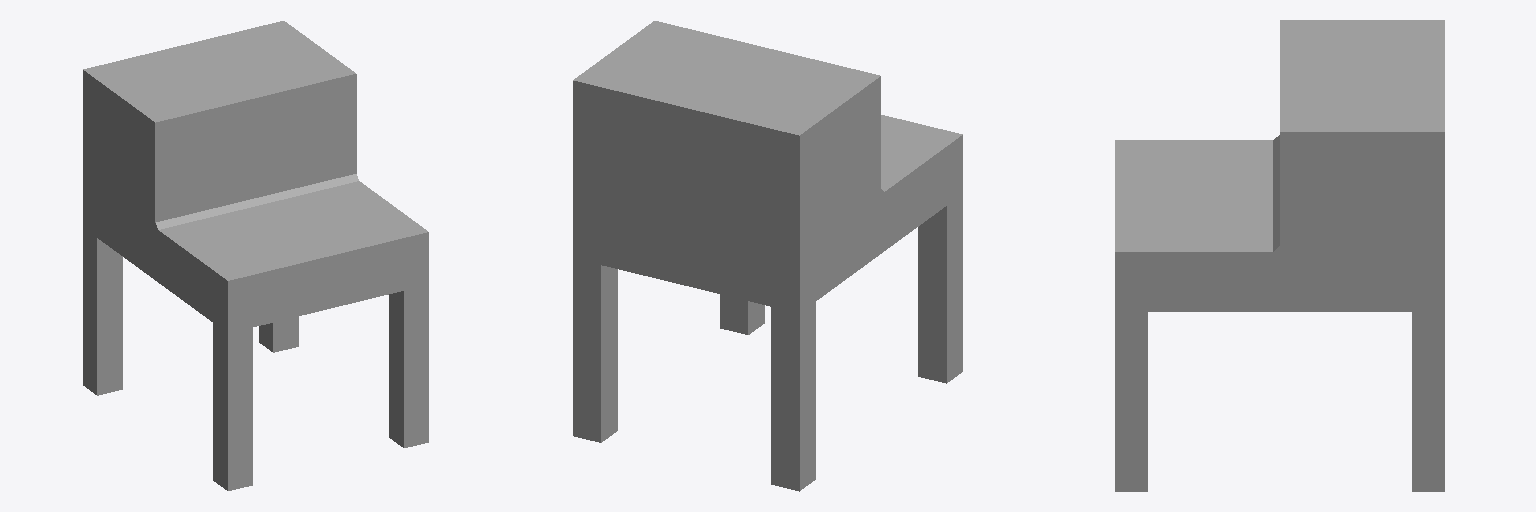
robot.urdf — bump:
<?xml version="1.0" ?>
<robot name="bump">
  <link name="bummpclass">
    <visual>
      <geometry>
        <mesh filename="package://Panda/meshes/collision/wall.obj" scale ="1 1 1"/>
      </geometry> 
      <material name="green">
                <color rgba="0.7 0.7 0.7 1"/>
            </material>
    </visual>
    <collision>
      <geometry>
        <mesh filename="package://Panda/meshes/collision/wall.obj" scale ="1 1 1"/>
      </geometry>
      <material name="green">
                <color rgba="0.7 0.7 0.7 1"/>
            </material>
    </collision>
  </link>
</robot>

--- Render facts (derived) ---
3 views of the same robot in one strip: view 1: azimuth 30°, elevation 25°; view 2: azimuth 150°, elevation 25°; view 3: azimuth 270°, elevation 25° (orthographic).
Robot: bump — 1 links, 0 joints (none); root link bummpclass; default pose: all joints at 0.
Links seen in each view (by area): view 1: bummpclass; view 2: bummpclass; view 3: bummpclass.
Link boxes in pixels (bbox=[...]): bummpclass: bbox=[83, 21, 428, 490]; bummpclass: bbox=[573, 21, 962, 491]; bummpclass: bbox=[1115, 20, 1444, 491].
Size in the robot's own frame: 0.4 by 0.5 by 0.6 metres.
1 mesh visuals loaded from 1 distinct referenced files (1 OBJ).